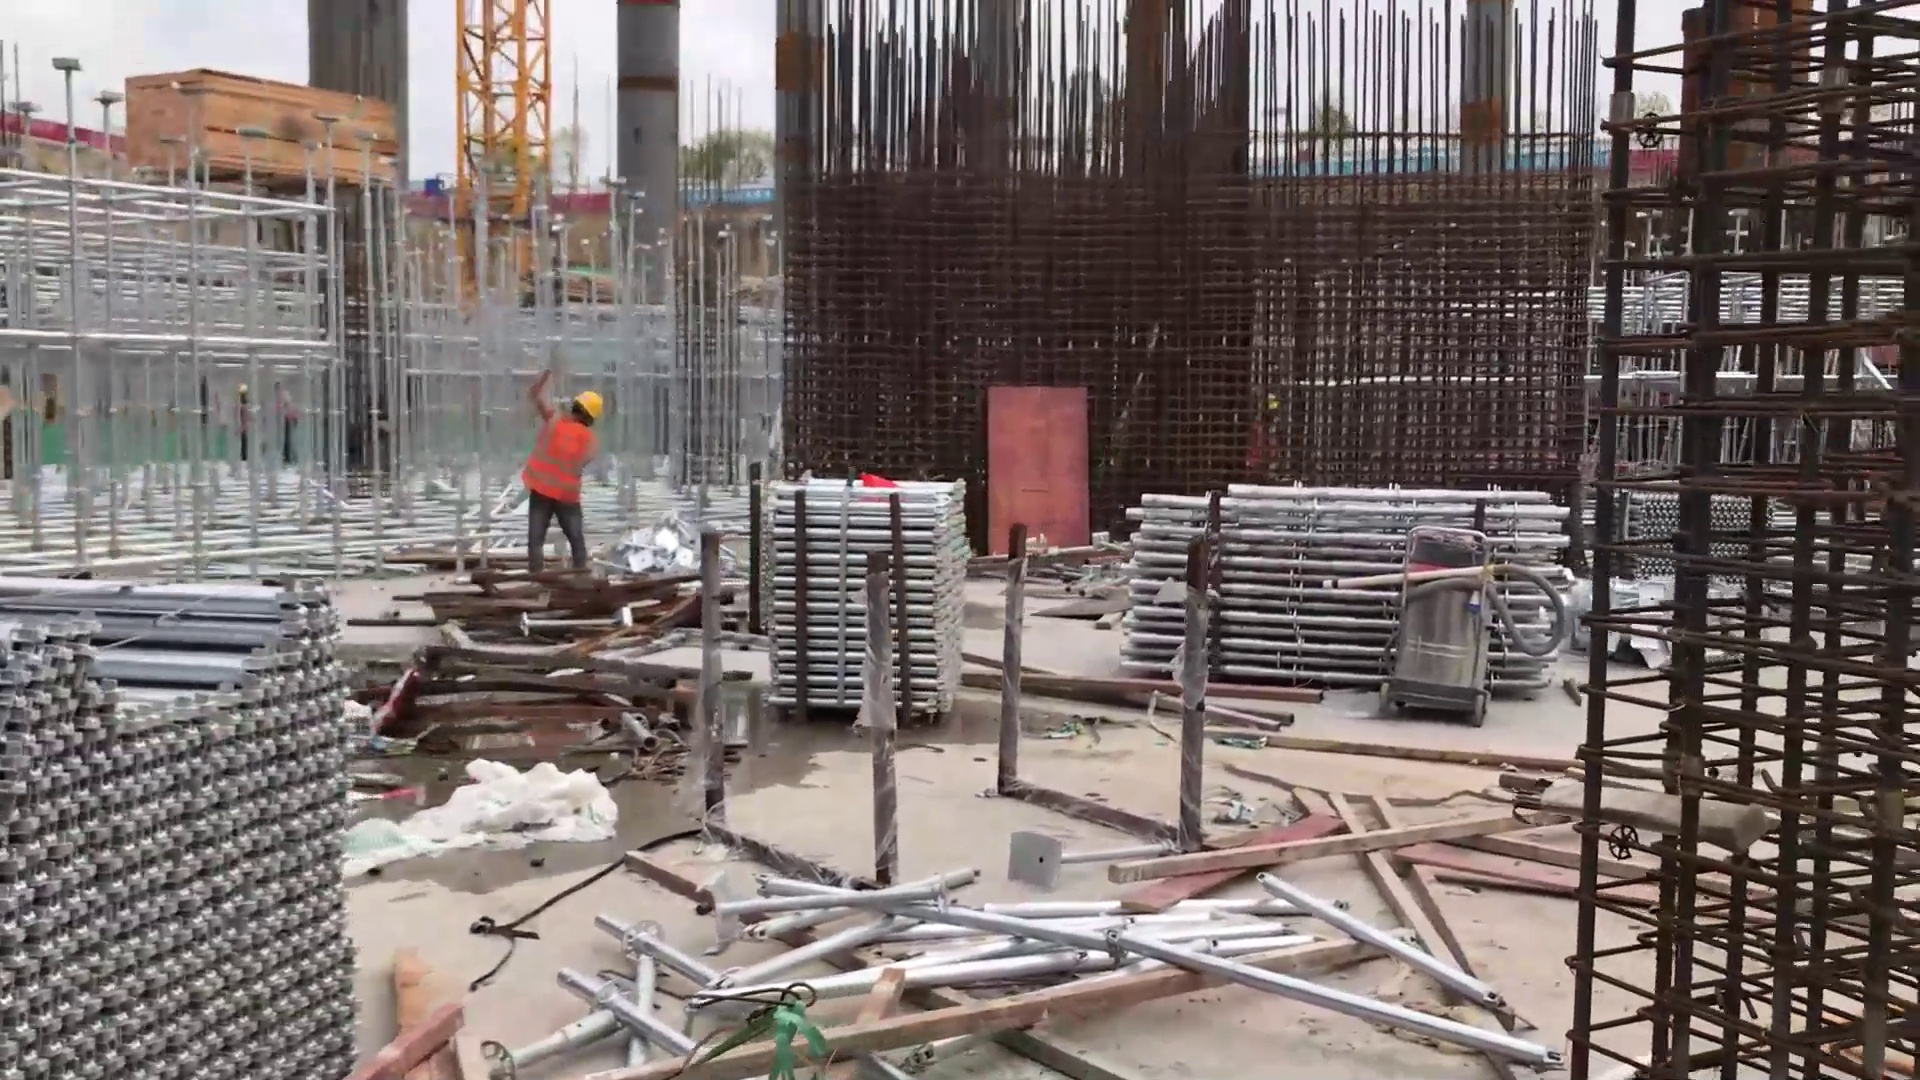board: (981, 374, 1098, 562)
helmet: (568, 380, 602, 425)
person: (522, 363, 604, 575)
scaffold: (2, 575, 366, 1080), (1121, 474, 1566, 715), (756, 472, 974, 717)
vest: (528, 411, 582, 512)
